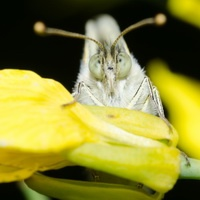insect: (34, 14, 177, 147), (124, 110, 168, 135)
